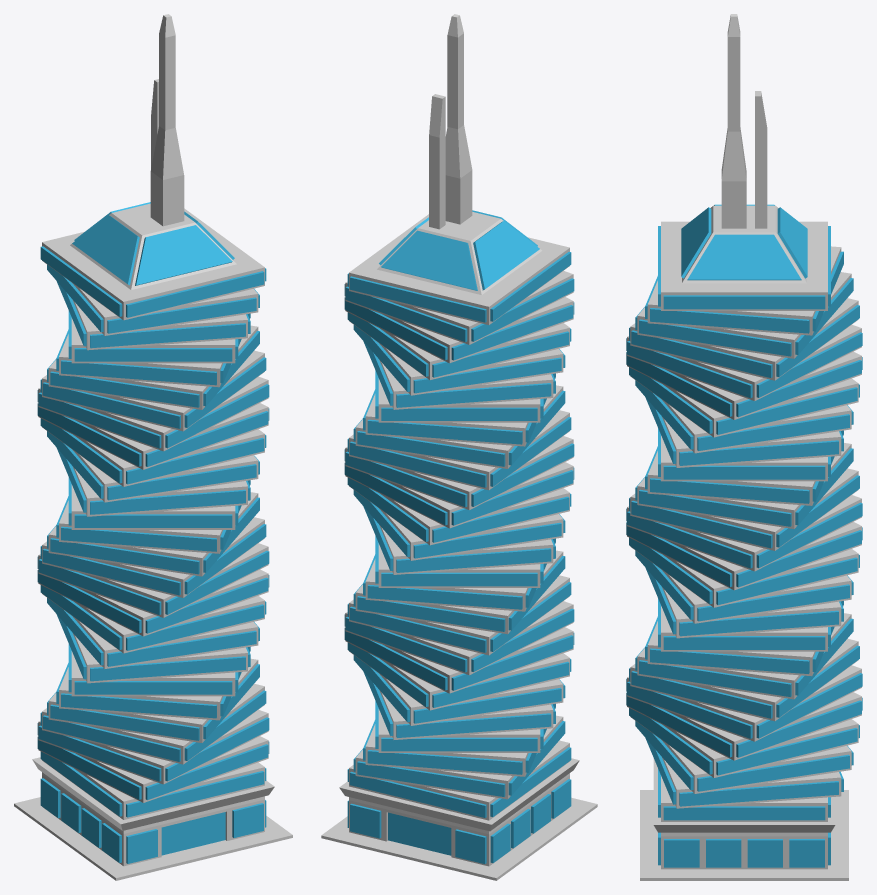
Rendered from Chroma Skyscraper O.fbx.
3 views of the same model, side by side, from view 1: azimuth 30°, elevation 25°; view 2: azimuth 150°, elevation 25°; view 3: azimuth 270°, elevation 25° (orthographic). The views are drawn at different scales.
Visible parts, largest first — view 1: Cube, Ground; view 2: Cube, Ground; view 3: Cube, Ground.
Boxes of the visible parts, left/top/right/bottom form: Cube: left=32, top=14, right=274, bottom=866; Ground: left=14, top=797, right=292, bottom=880; Cube: left=339, top=14, right=579, bottom=866; Ground: left=321, top=797, right=597, bottom=880; Cube: left=626, top=14, right=862, bottom=869; Ground: left=640, top=790, right=848, bottom=880.
Size of the model in its own units: 1133 by 4365 by 1133.
